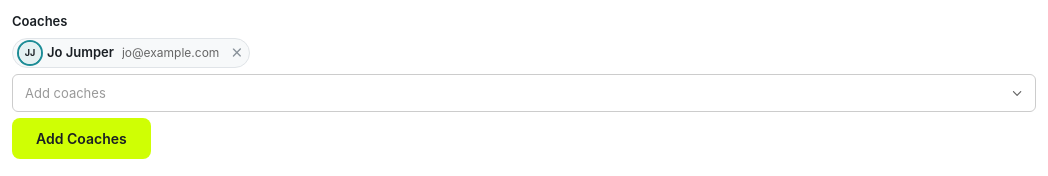
RoleMemberPicker › reports a failed role update
Click the button named "Remove Jo Jumper from Coaches" at (236, 52), box [227,44,245,62]
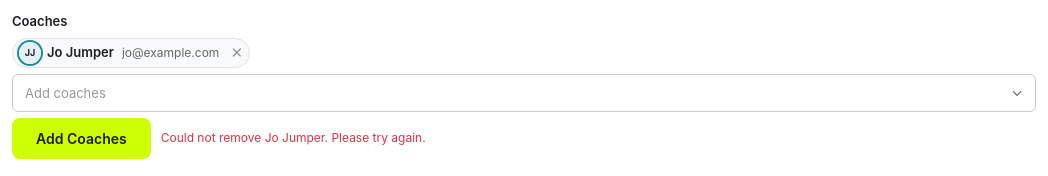
Expected: the text "Could not remove Jo Jumper. Please try again." is shown, [161,129,426,147]
